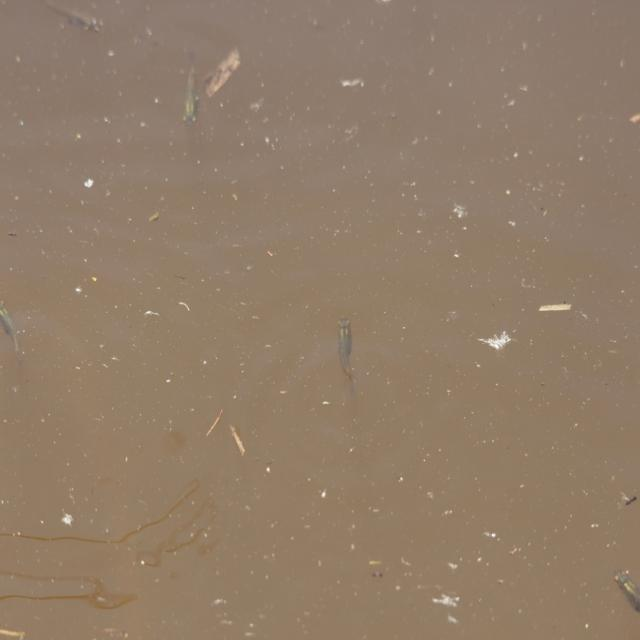Sivrisinek Baligi: (327, 313, 365, 399), (172, 50, 207, 126), (610, 567, 640, 616)
